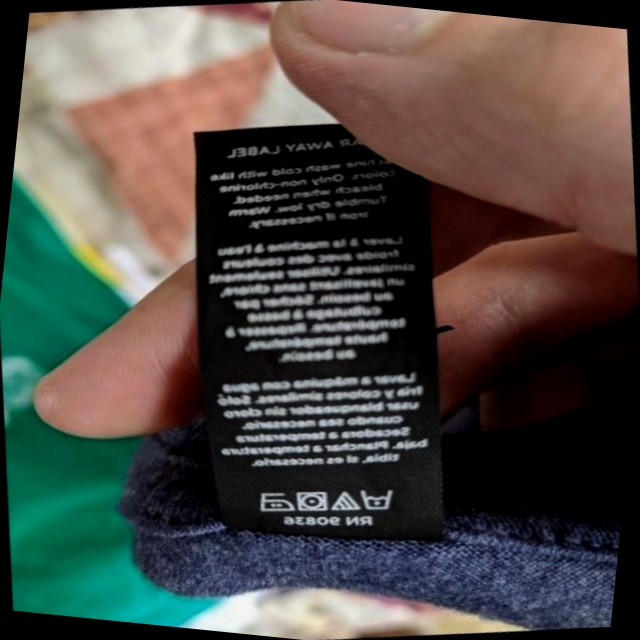30C: (358, 482, 395, 515)
iron_medium: (252, 487, 295, 521)
non_chlorine_bleach: (327, 488, 361, 517)
tumble_dry_low: (289, 486, 330, 520)
